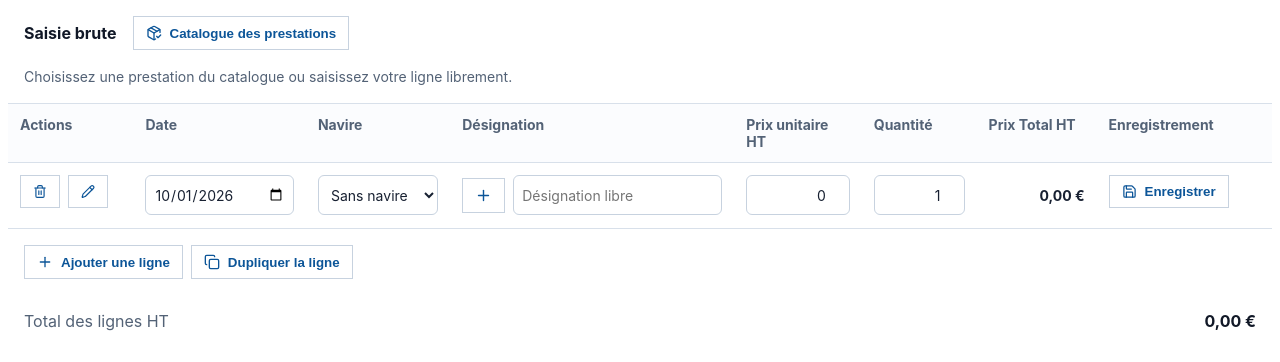
Test: raw project billing lines › protects exports once the automatic blank row is edited through Prix unitaire HT, ligne 1
This screenshot has width=1280, height=362.
Replace the text in the number field named "Prix unitaire HT, ligne 1" with "25" at (798, 195), box [746,175,850,215]
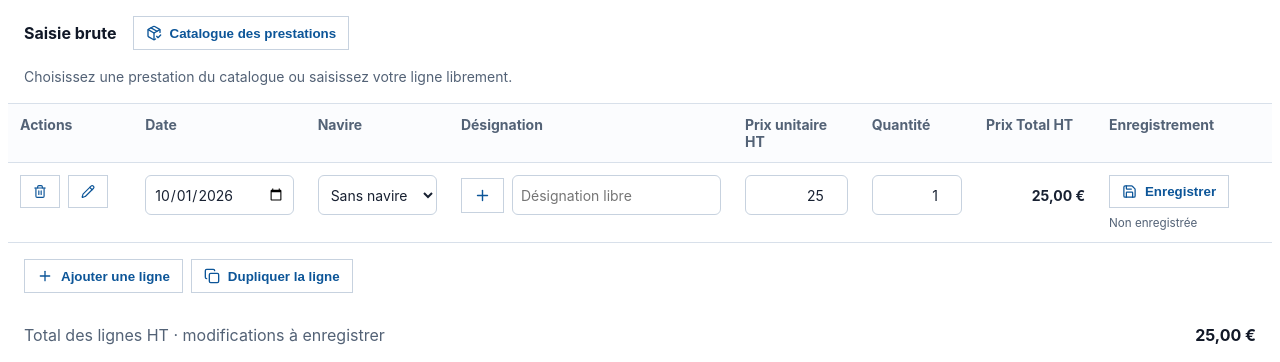
Now the button with aria-label "Enregistrer la ligne 1" is enabled, box [1109,175,1229,208]
